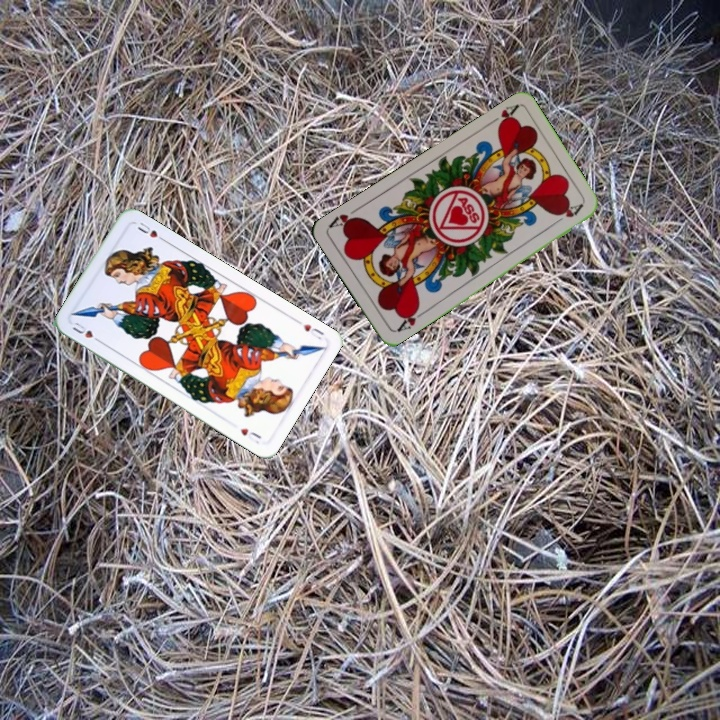HA: (392, 302, 428, 334), (483, 100, 520, 131)
HU: (68, 318, 105, 346), (299, 320, 327, 342)
